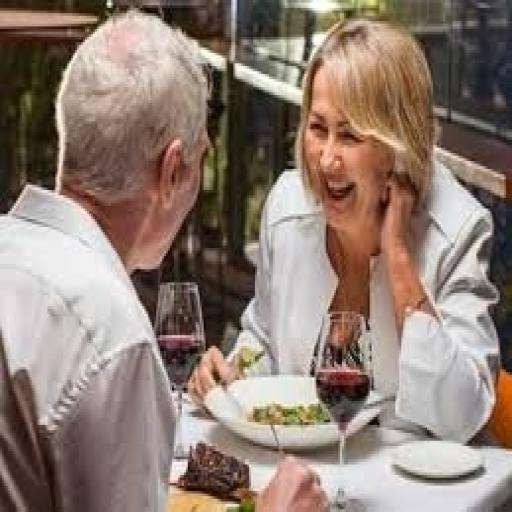eating: (0, 8, 504, 509)
